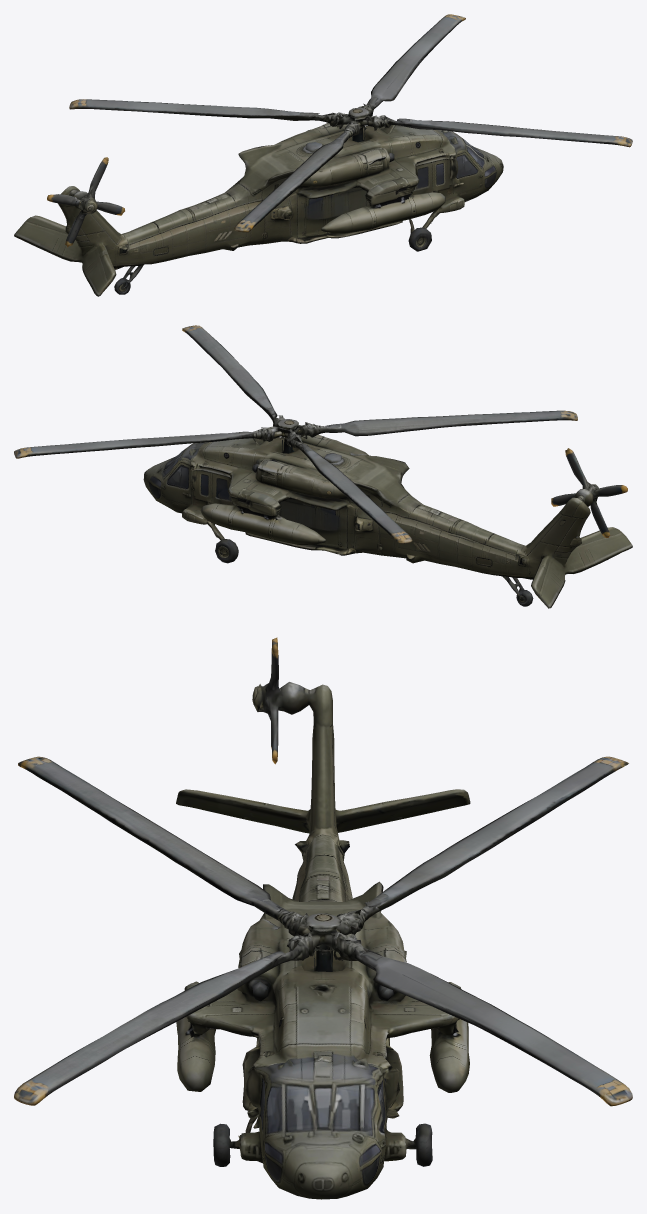
Rendered from tripo_convert_53b192ef-f984-4580-b539-35d1f3c10ec8.fbx.
3 views of the same model, one above another, from view 1: azimuth 30°, elevation 25°; view 2: azimuth 150°, elevation 25°; view 3: azimuth 270°, elevation 25° (orthographic). The views are drawn at different scales.
Visible parts, largest first — view 1: tripo_node_53b192ef; view 2: tripo_node_53b192ef; view 3: tripo_node_53b192ef.
Boxes of the visible parts, left/top/right/bottom form: tripo_node_53b192ef: left=14, top=14, right=632, bottom=296; tripo_node_53b192ef: left=14, top=325, right=632, bottom=608; tripo_node_53b192ef: left=14, top=637, right=632, bottom=1199.
Size of the model in its own units: 97.14 by 58.38 by 27.96.
Materials: 1 (1 with a texture image).
